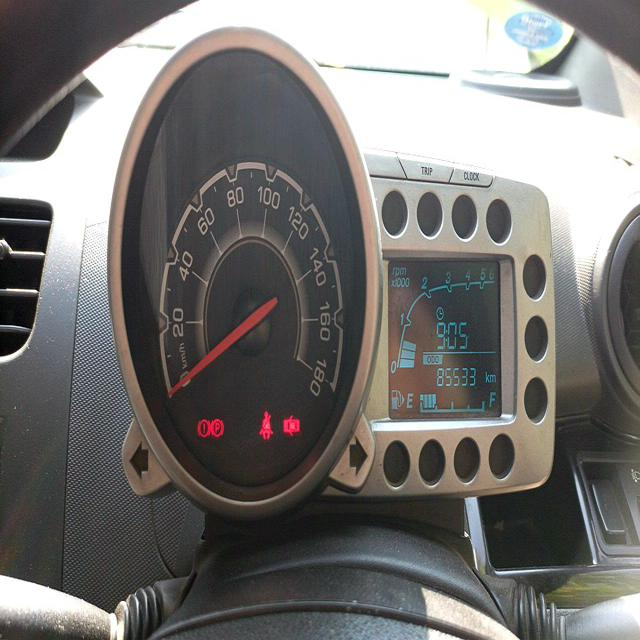odometer: (434, 362, 479, 392)
